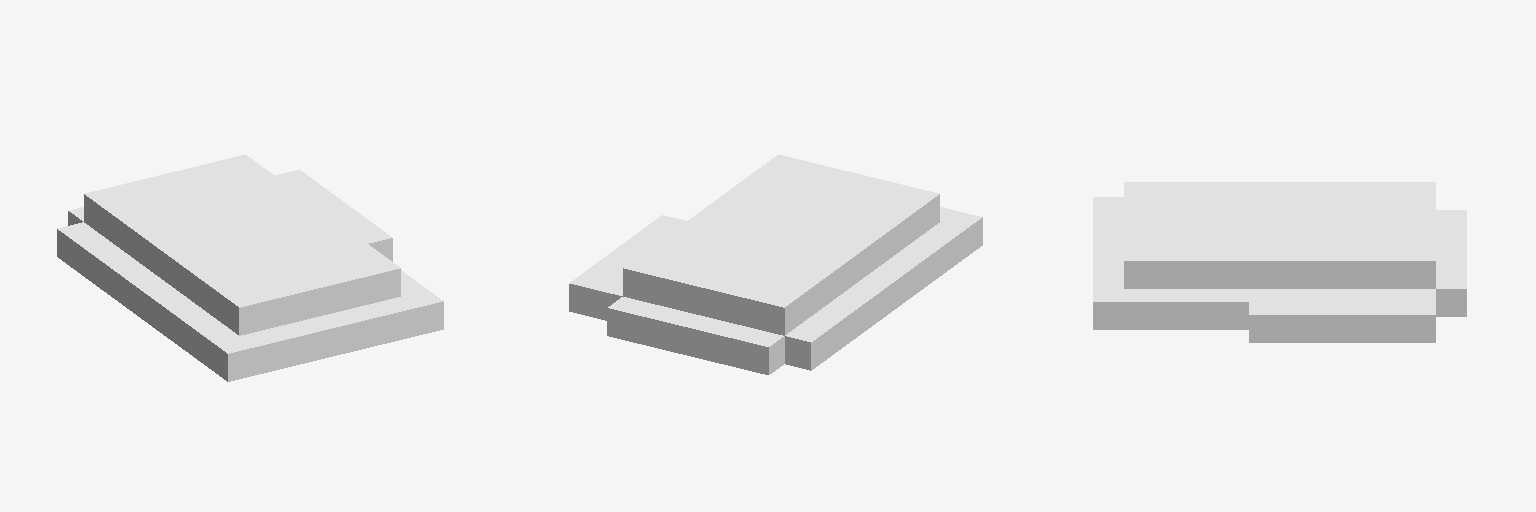
Rendered from Clipboard.obj.
The picture shows the model from 3 angles: view 1: azimuth 30°, elevation 25°; view 2: azimuth 150°, elevation 25°; view 3: azimuth 270°, elevation 25°; orthographic projection.
Parts seen in each view (by area): view 1: object 1; view 2: object 1; view 3: object 1.
Boxes of the visible parts, x1,y1,x2,y2 form: object 1: [57, 154, 443, 381]; object 1: [569, 154, 982, 374]; object 1: [1093, 182, 1466, 342].
Size of the model in its own units: 0.9 by 0.2 by 1.2.